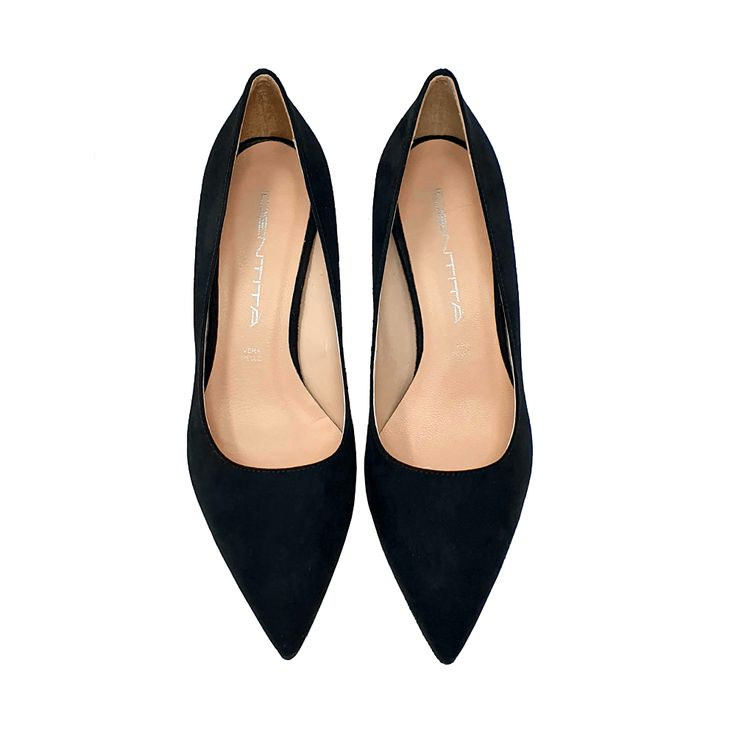gamuza: (188, 69, 534, 664)
